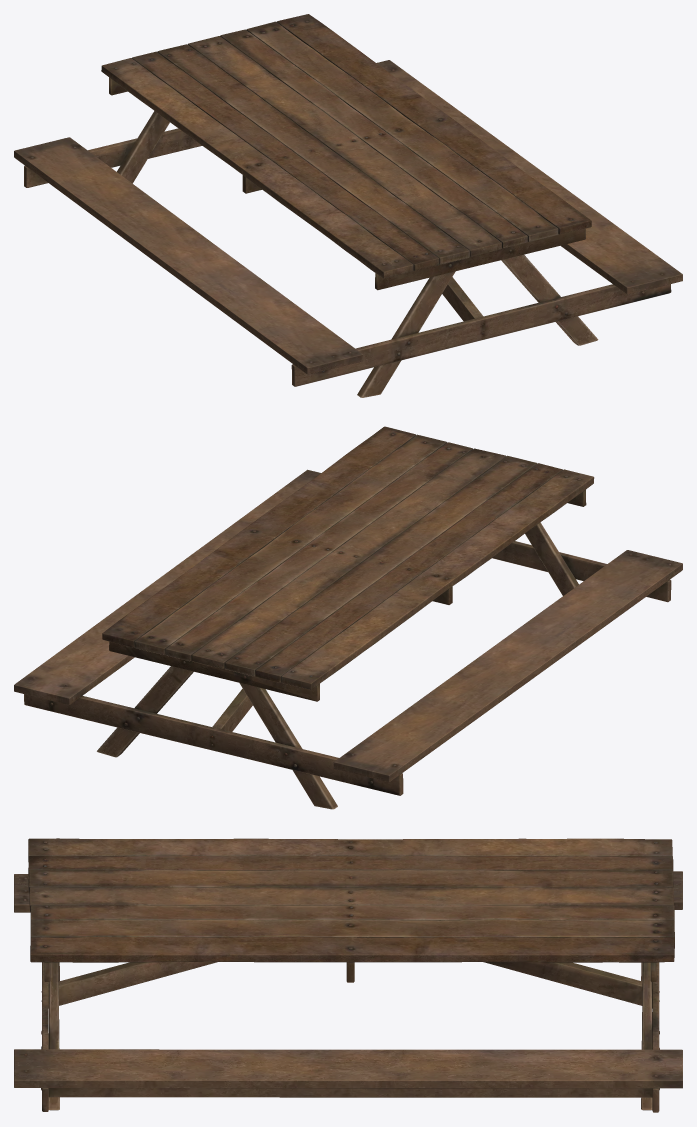
Rendered from wooden_picnic_table.glb.
3 renders of one model, top to bottom at view 1: azimuth 30°, elevation 25°; view 2: azimuth 150°, elevation 25°; view 3: azimuth 270°, elevation 25°, orthographic. The views are drawn at different scales.
Visible parts, largest first — view 1: wooden_picnic_table; view 2: wooden_picnic_table; view 3: wooden_picnic_table.
Boxes of the visible parts, bbox=[...] form: wooden_picnic_table: bbox=[14, 14, 682, 397]; wooden_picnic_table: bbox=[14, 426, 682, 809]; wooden_picnic_table: bbox=[14, 838, 682, 1112].
Bounding box in the file's own units: 2.24 × 0.7459 × 3.02.
Materials: 2 (2 with a texture image).
